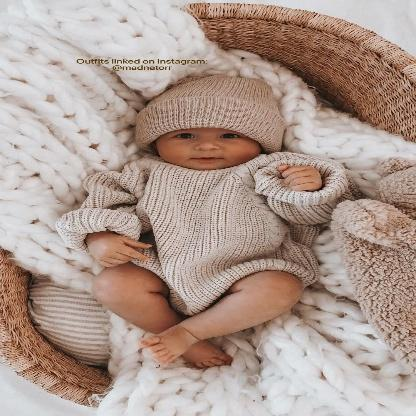baby: (57, 74, 355, 370)
